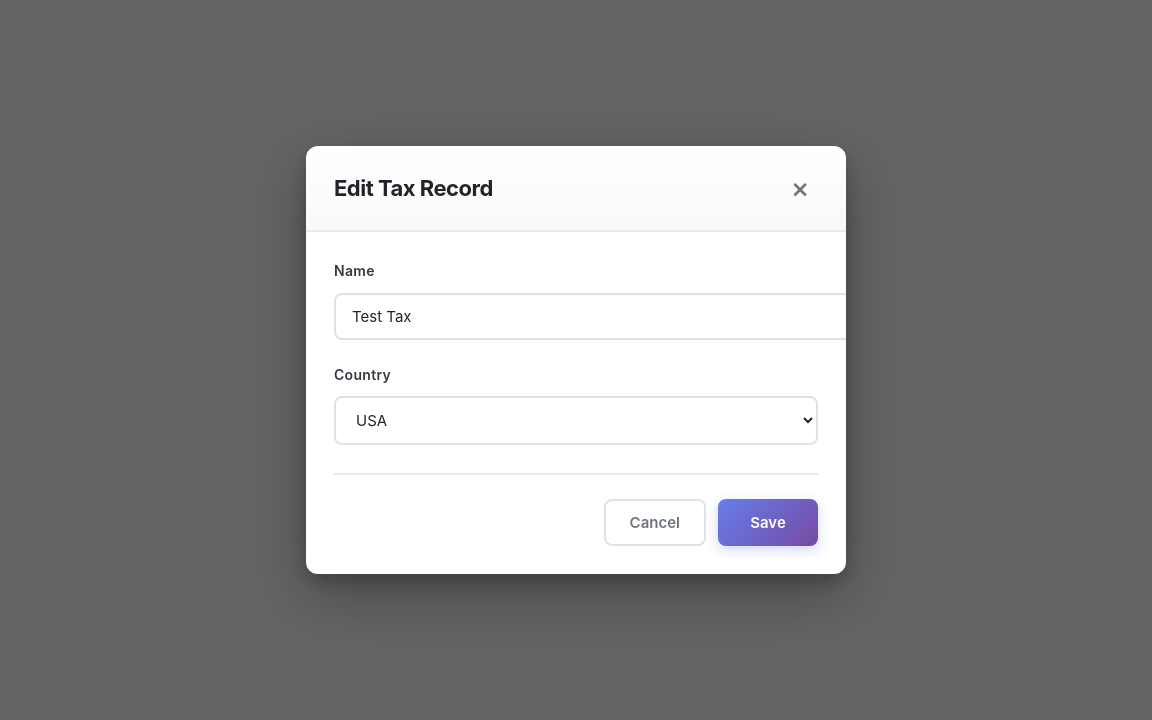
Test: EditModal Unit Tests › should display error message when save fails
Click the button "Save" at (768, 522), box 718,499 -> 818,546
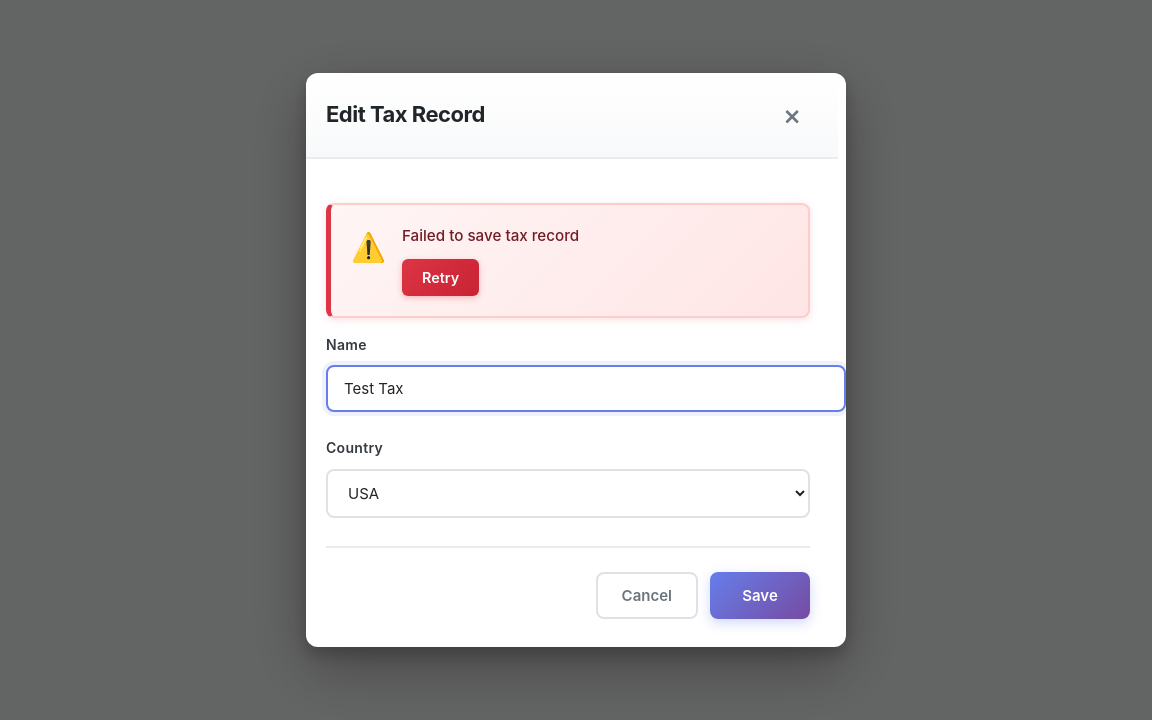
Expected: the text "Failed to save tax record" is shown, 402,226 -> 579,245
